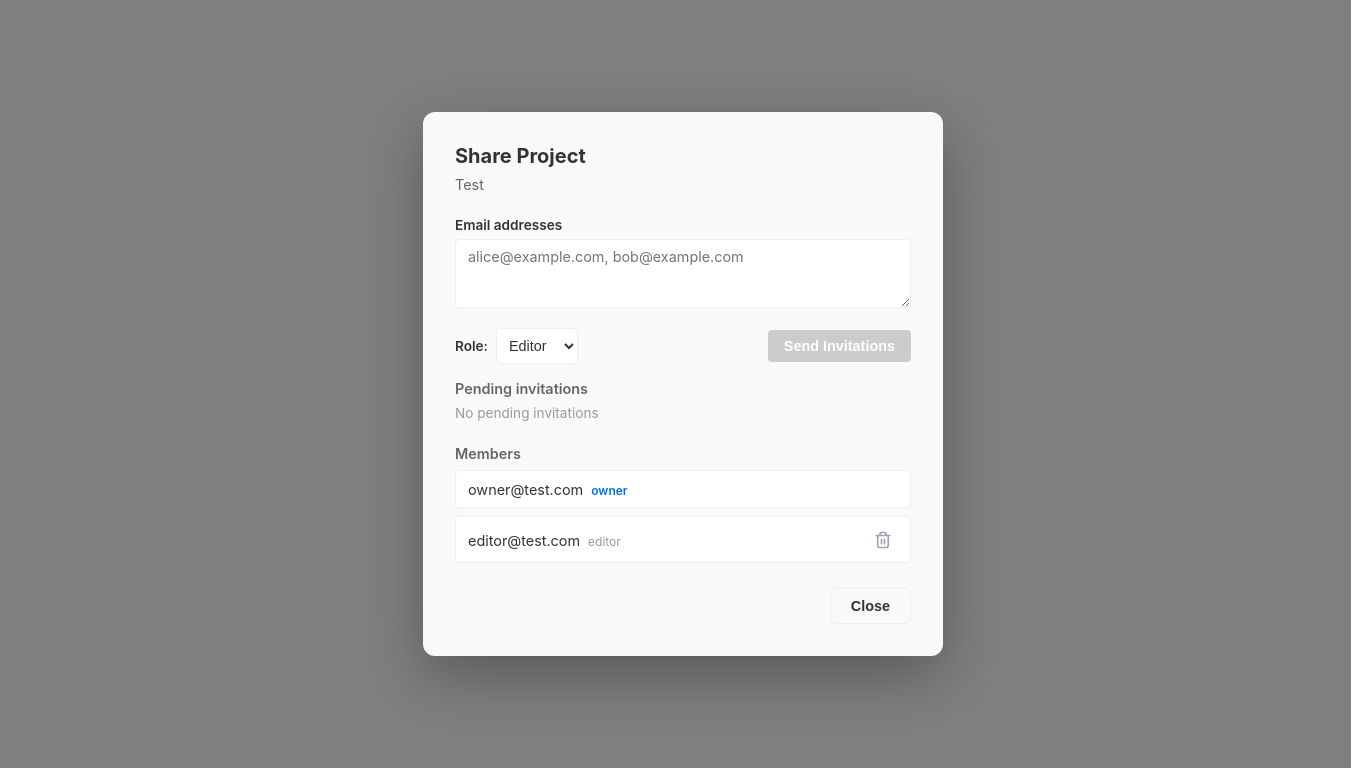
Test case: ShareDialog › removing a member › removes the member after the confirm, then shows the refreshed member list
Click the button named "Remove member" at (883, 540), box [869,525,898,554]
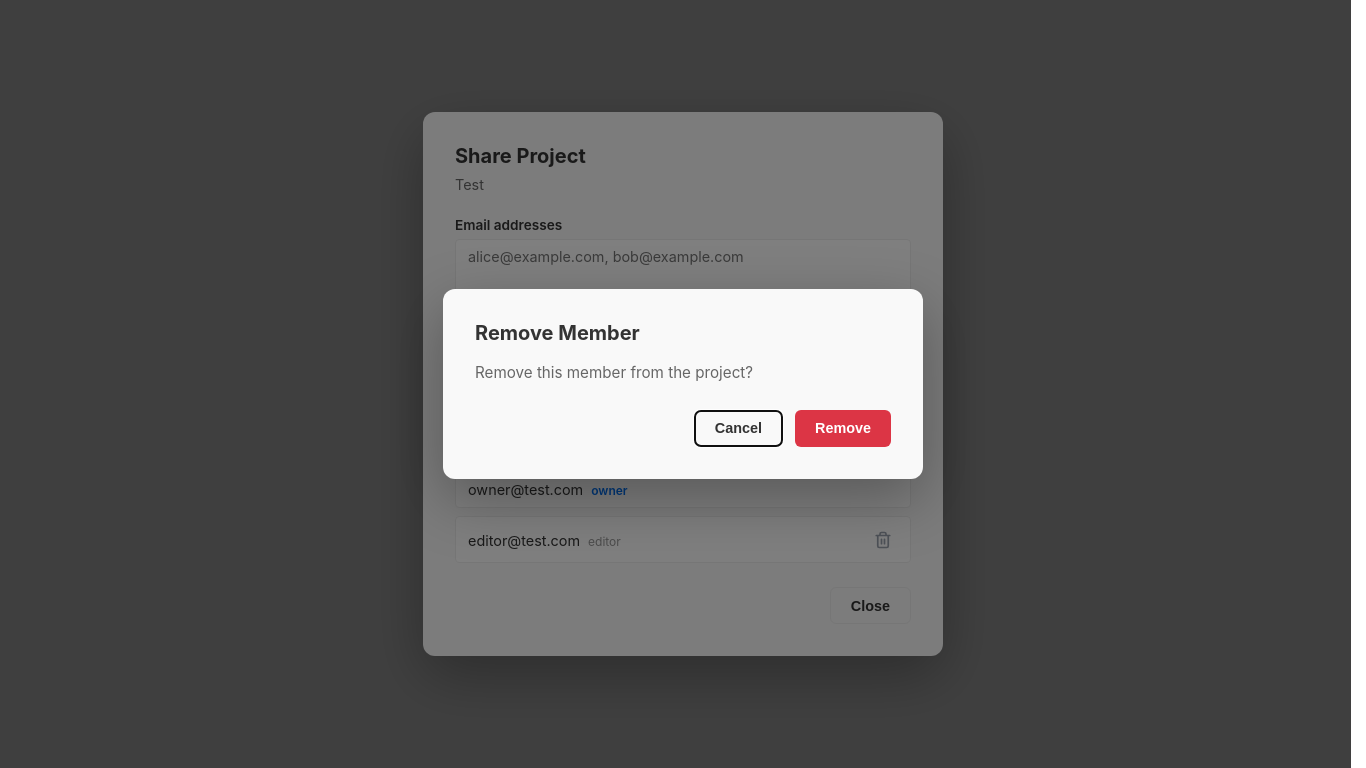
Now the text "Remove this member from the project?" is shown, box [475,363,753,382]
Click the button "Remove" at (843, 428), box [795,410,891,447]
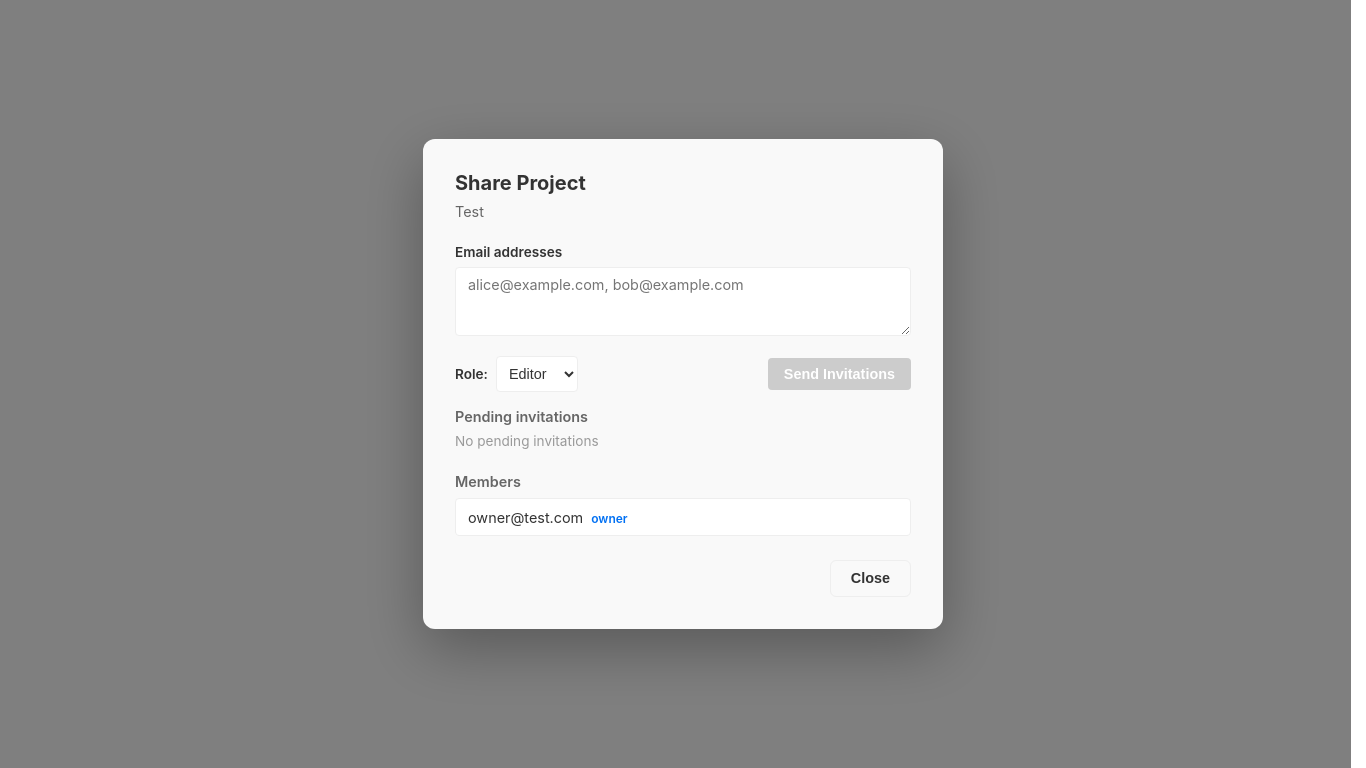
Expected: the text "owner@test.com" is shown, [468,509,583,526]
Now the text "editor@test.com" is gone
Now the heading "Remove Member" is gone
